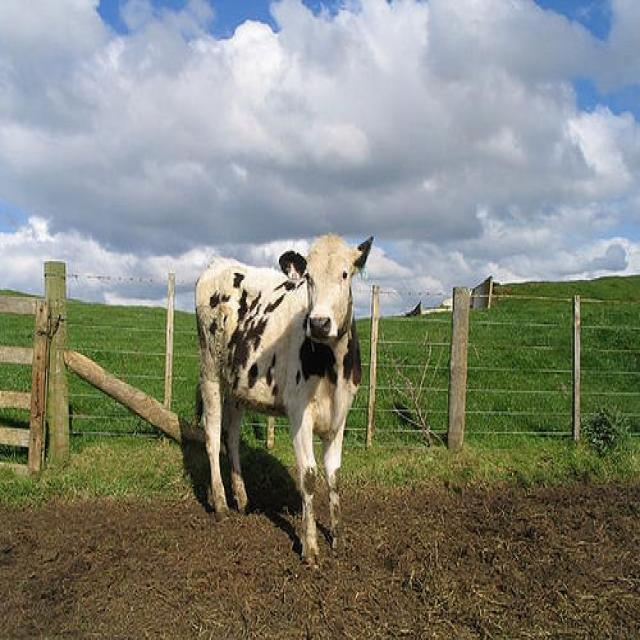cow: (192, 232, 371, 558)
